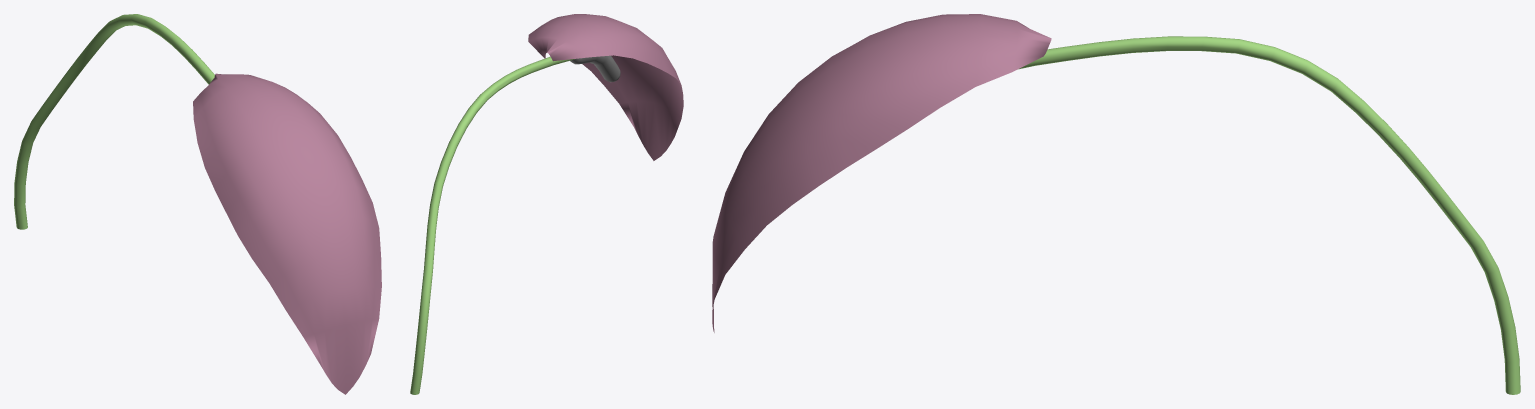
The model's file is SM_Flower01_Dead.fbx.
3 renders of one model, left to right at view 1: azimuth 30°, elevation 25°; view 2: azimuth 150°, elevation 25°; view 3: azimuth 270°, elevation 25°, orthographic. The views are drawn at different scales.
Parts seen in each view (by area): view 1: SM_Flower01; view 2: SM_Flower01; view 3: SM_Flower01.
Part boxes in pixels (left/top/right/bottom): SM_Flower01: left=14, top=14, right=381, bottom=394; SM_Flower01: left=410, top=14, right=683, bottom=394; SM_Flower01: left=712, top=14, right=1520, bottom=394.
Size of the model in its own units: 18.14 by 36.91 by 71.63.
